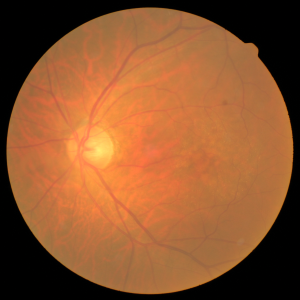retina_disease: (38, 93, 241, 209)
